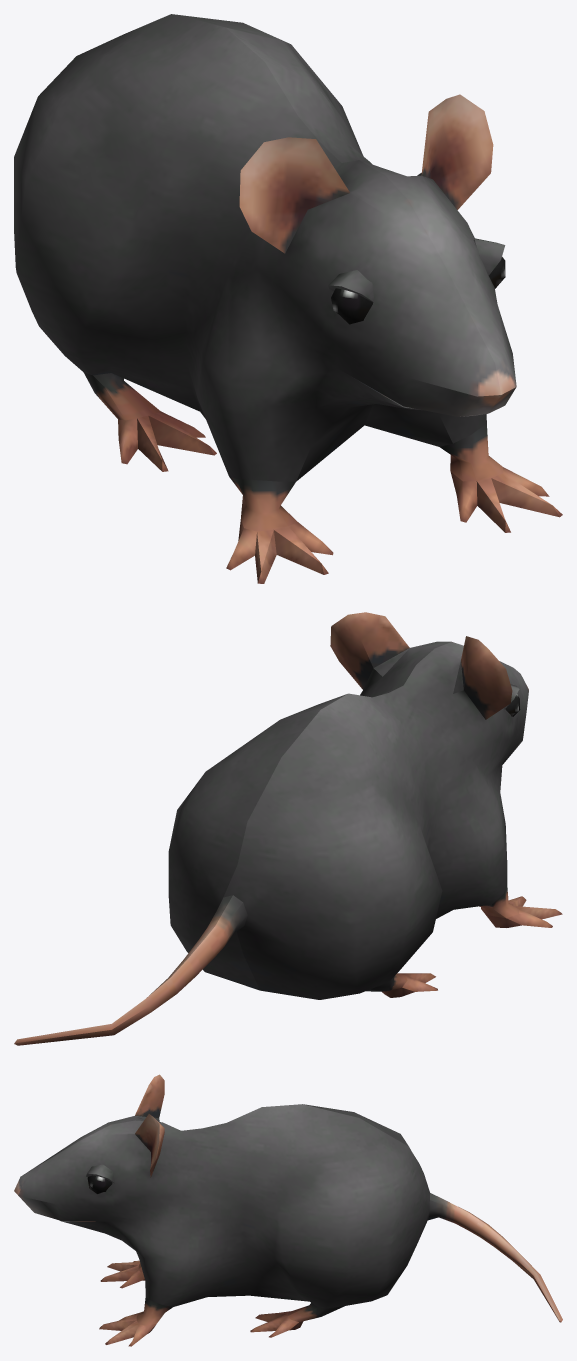
File: rata.fbx
The picture shows the model from 3 angles, top to bottom: view 1: azimuth 30°, elevation 25°; view 2: azimuth 150°, elevation 25°; view 3: azimuth 270°, elevation 25°; orthographic projection. The views are drawn at different scales.
Parts seen in each view (by area): view 1: s4studio_mesh_5; view 2: s4studio_mesh_5; view 3: s4studio_mesh_5.
Boxes of the visible parts, x1=… form: s4studio_mesh_5: x1=14, y1=14, x2=562, y2=583; s4studio_mesh_5: x1=14, y1=612, x2=562, y2=1045; s4studio_mesh_5: x1=14, y1=1074, x2=562, y2=1346.
Bounding box in the file's own units: 7.06 × 7.78 × 18.48.
Materials: 1 (1 with a texture image).
